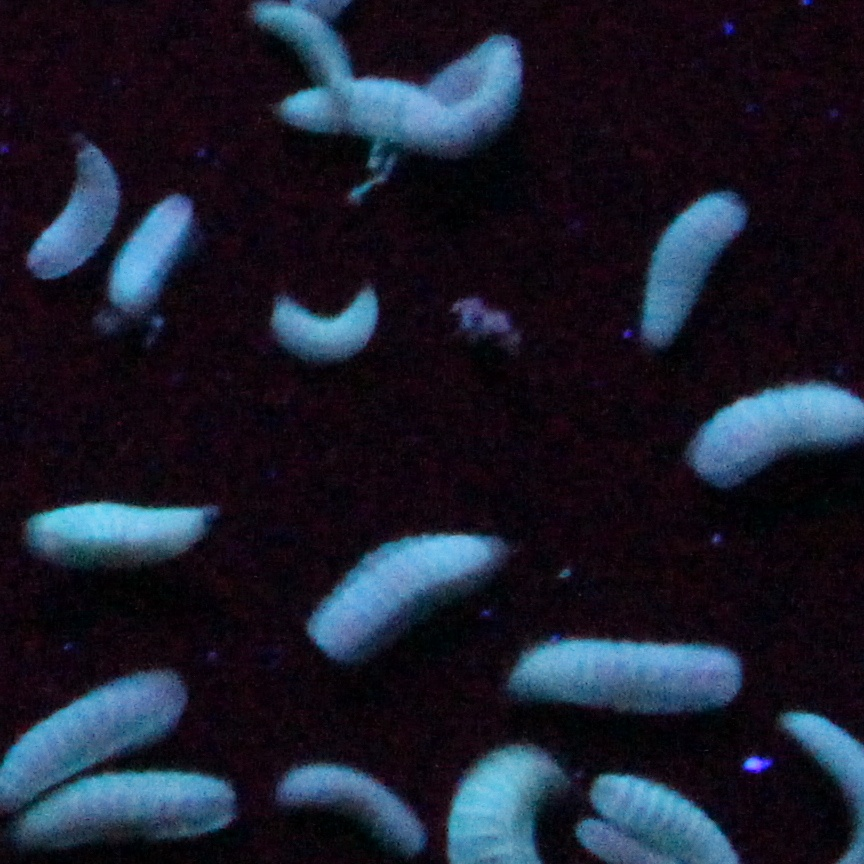larve: (278, 23, 530, 146), (316, 520, 507, 649), (639, 184, 755, 346), (21, 775, 236, 856), (268, 748, 422, 853), (509, 641, 748, 705), (25, 135, 122, 279), (109, 191, 201, 311), (24, 501, 221, 555), (270, 279, 384, 367)
